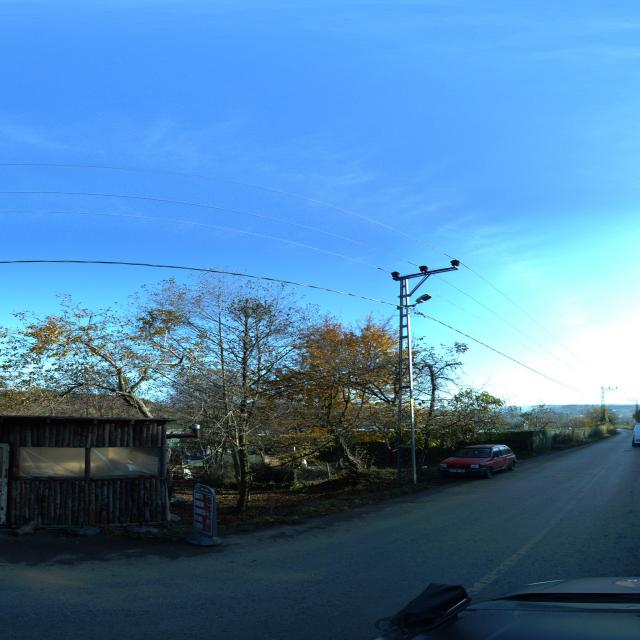Utility Pole Information Plate: (410, 399, 414, 405)
